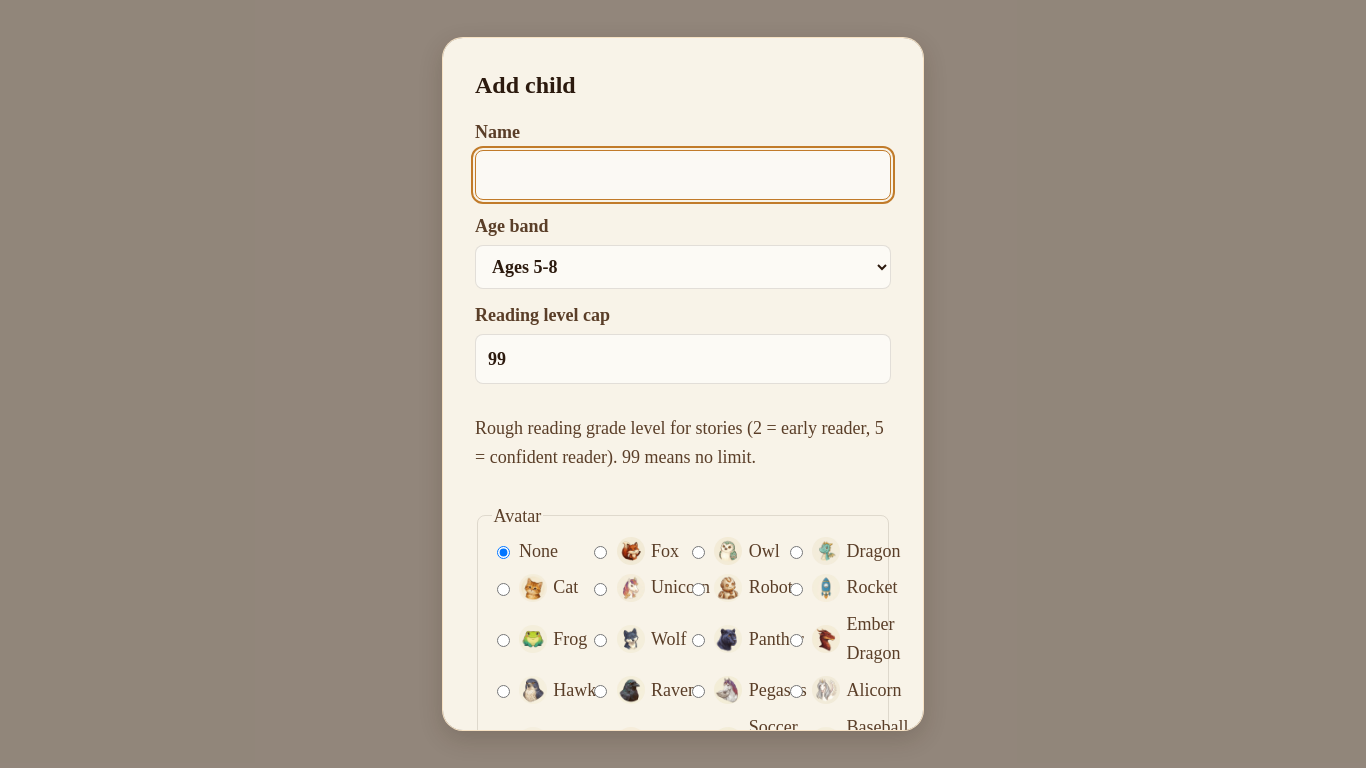
Scenario: ProfileFormDialog › shows the transient save copy on a 500 save
The width and height of the screenshot is (1366, 768).
Type "Robin" into the field labelled "Name" at (683, 175), box [475,150,891,200]
(page scrolled)
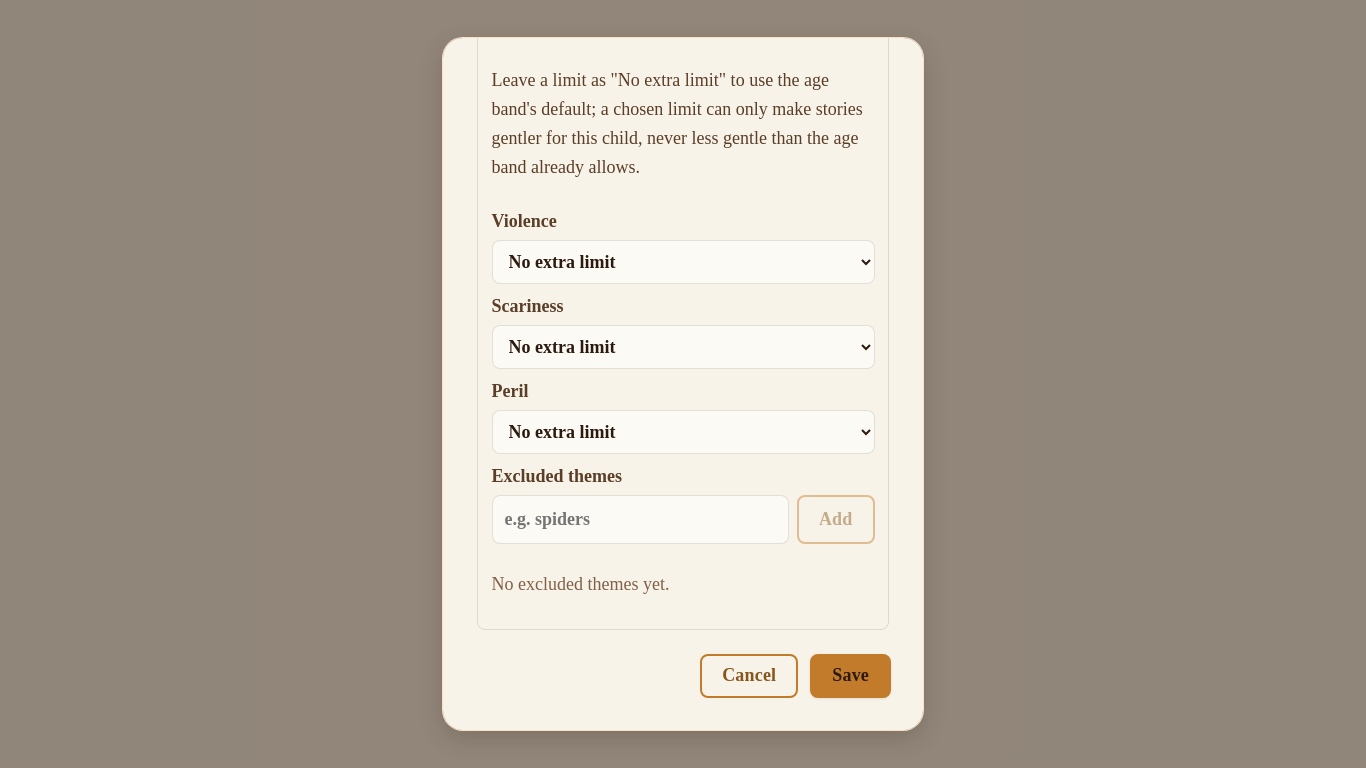
Click the button "Save" at (851, 676), box [810,654,891,698]
(page scrolled)
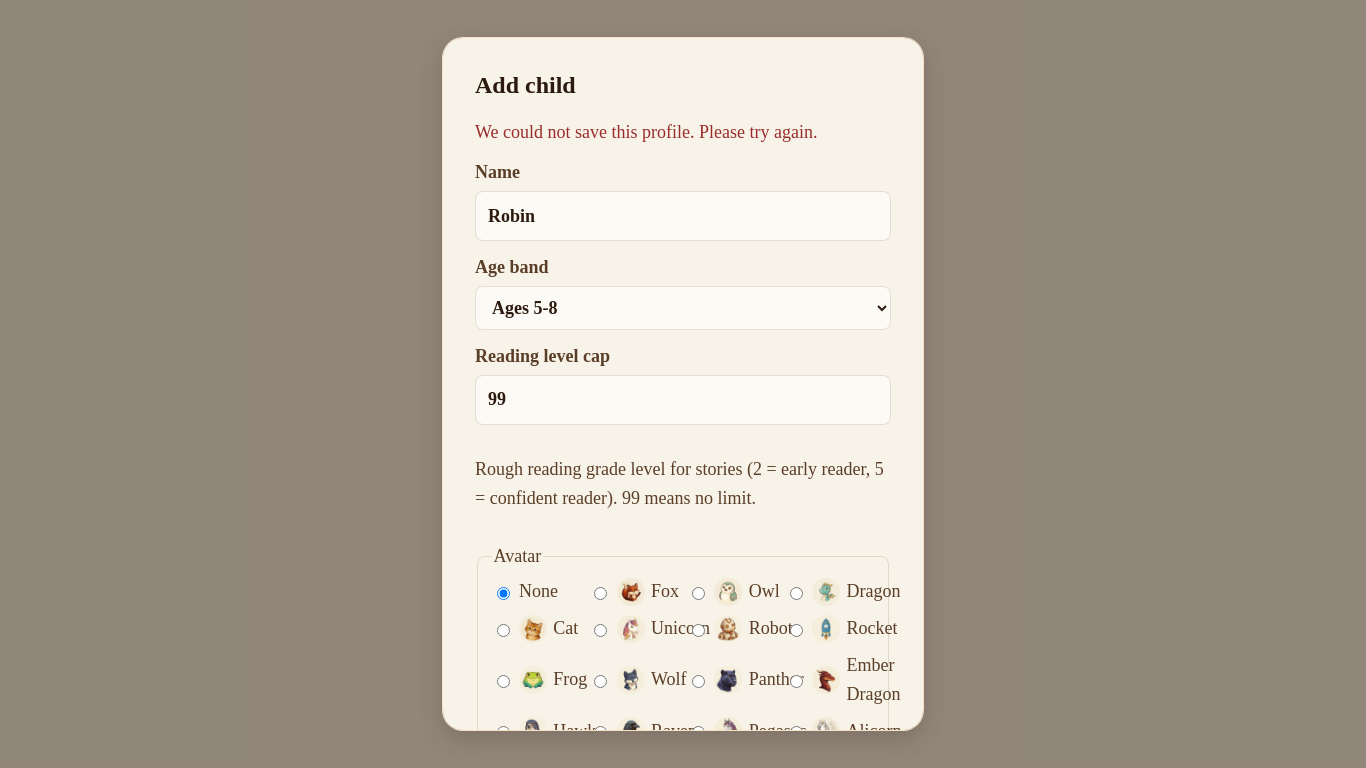
Result: the message reads "We could not save this profile. Please try again." at [475,122,818,142]
